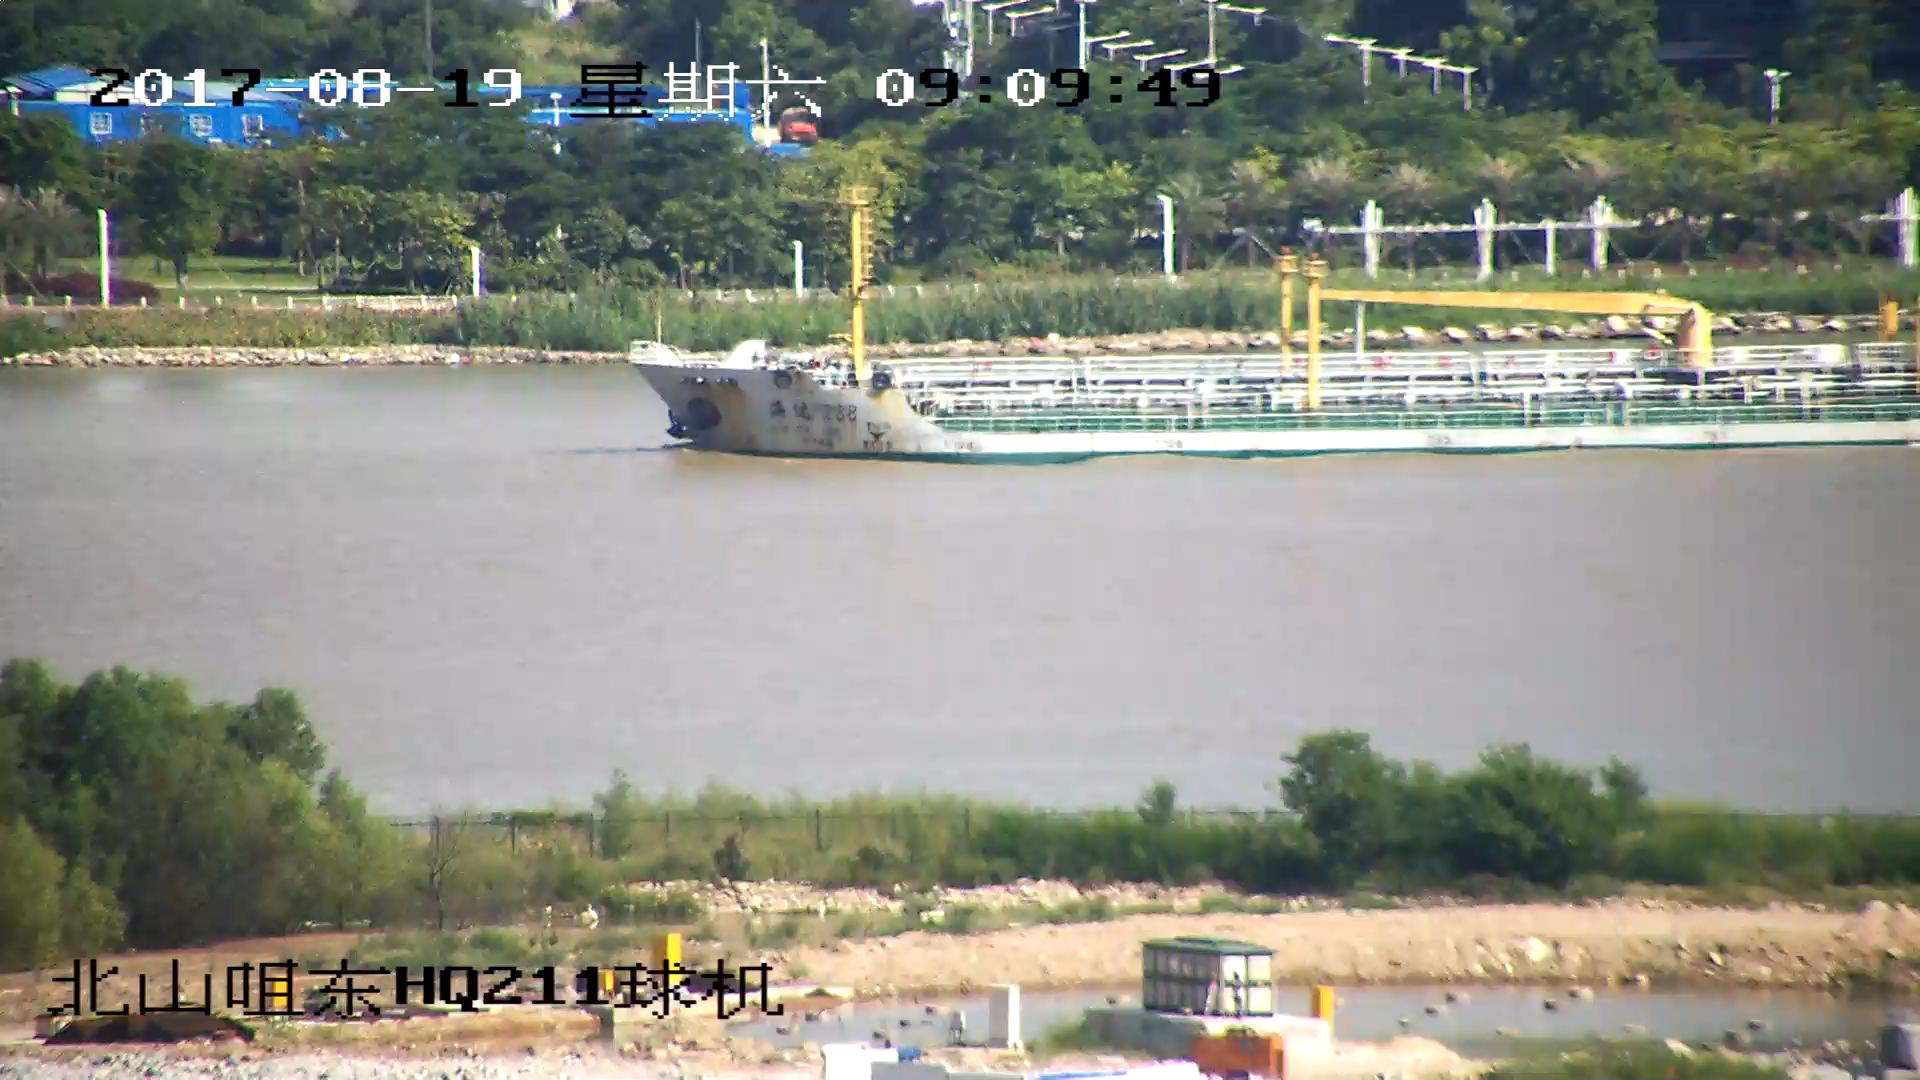general cargo ship: (631, 210, 1920, 459)
